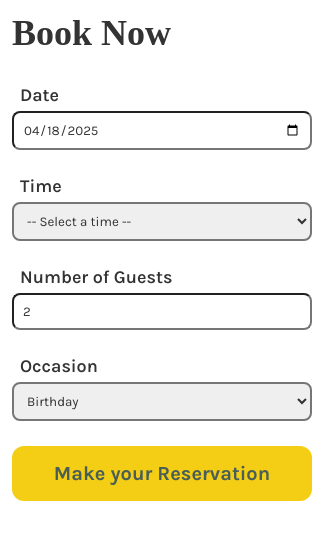
Test: Error message appears if date in past chosen
The image size is (332, 547).
Note: Fill in the form fields
In the date field labelled "Date": (162, 131) [12,111,312,150], type "2022-04-01"
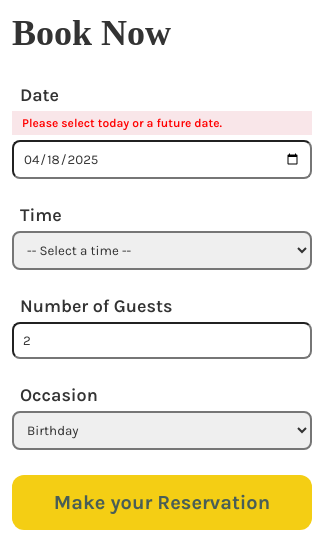
Check: the text "Please select today or a future date." is shown, box [12,111,312,135]
